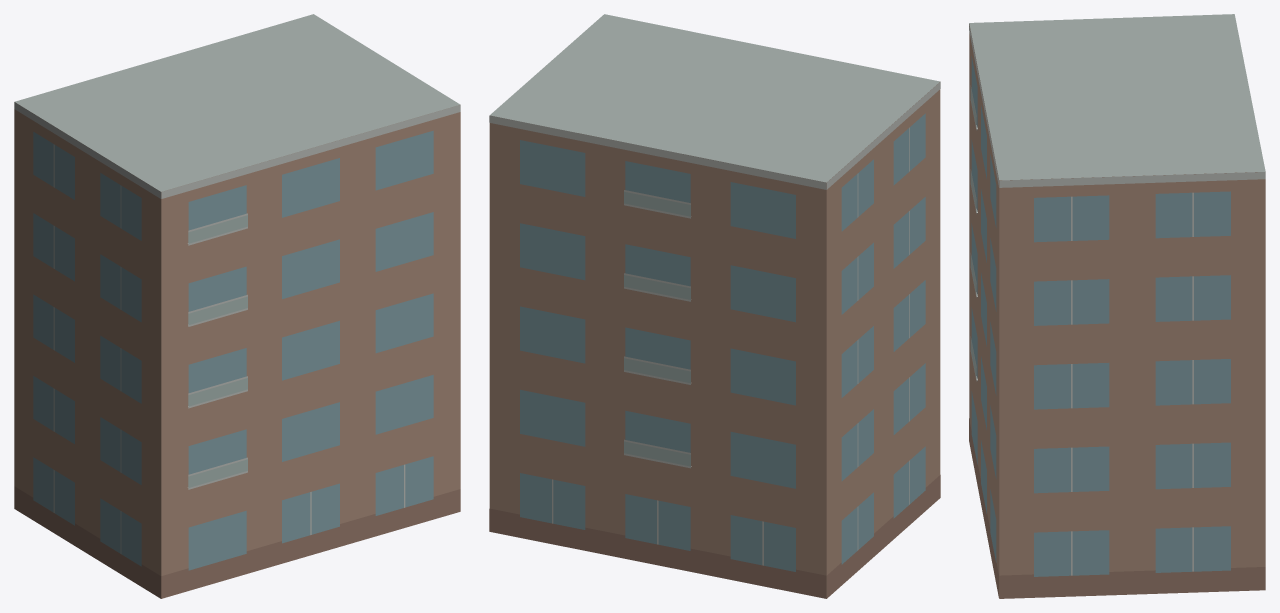
Rendered from survey-upis-32931765.glb.
The picture shows the model from 3 angles, left to right: view 1: azimuth 30°, elevation 25°; view 2: azimuth 150°, elevation 25°; view 3: azimuth 270°, elevation 25°; orthographic projection. The views are drawn at different scales.
Parts seen in each view (by area): view 1: survey-upis-32931765.tmp; view 2: survey-upis-32931765.tmp; view 3: survey-upis-32931765.tmp.
Part boxes in pixels (x1=…): survey-upis-32931765.tmp: x1=14, y1=14, x2=460, y2=598; survey-upis-32931765.tmp: x1=489, y1=14, x2=940, y2=598; survey-upis-32931765.tmp: x1=969, y1=14, x2=1265, y2=598.
Bounding box in the file's own units: 11.7 × 13.7 × 8.81.
